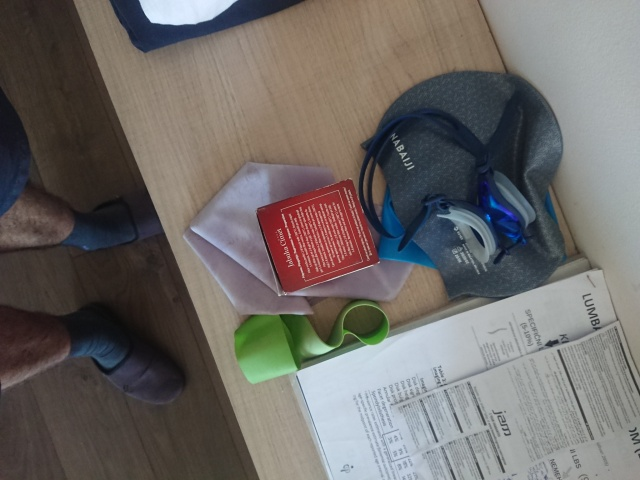Franck Apple Cinnamon Tea 60g: (253, 175, 382, 298)
